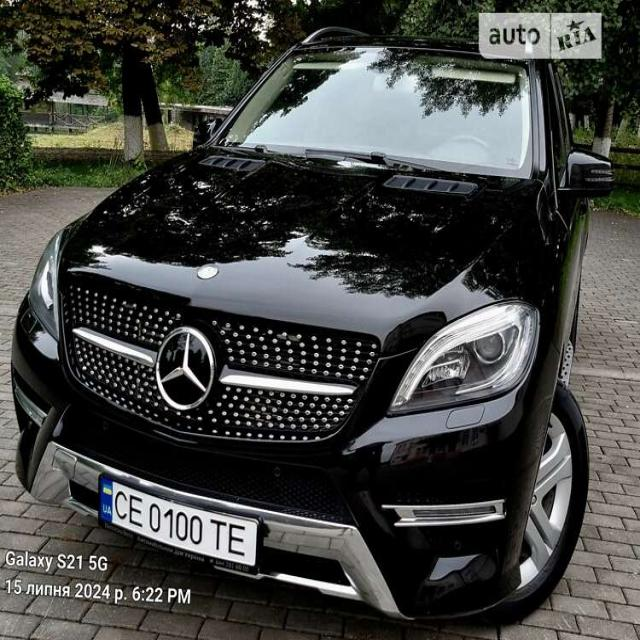plate: (98, 465, 268, 583)
